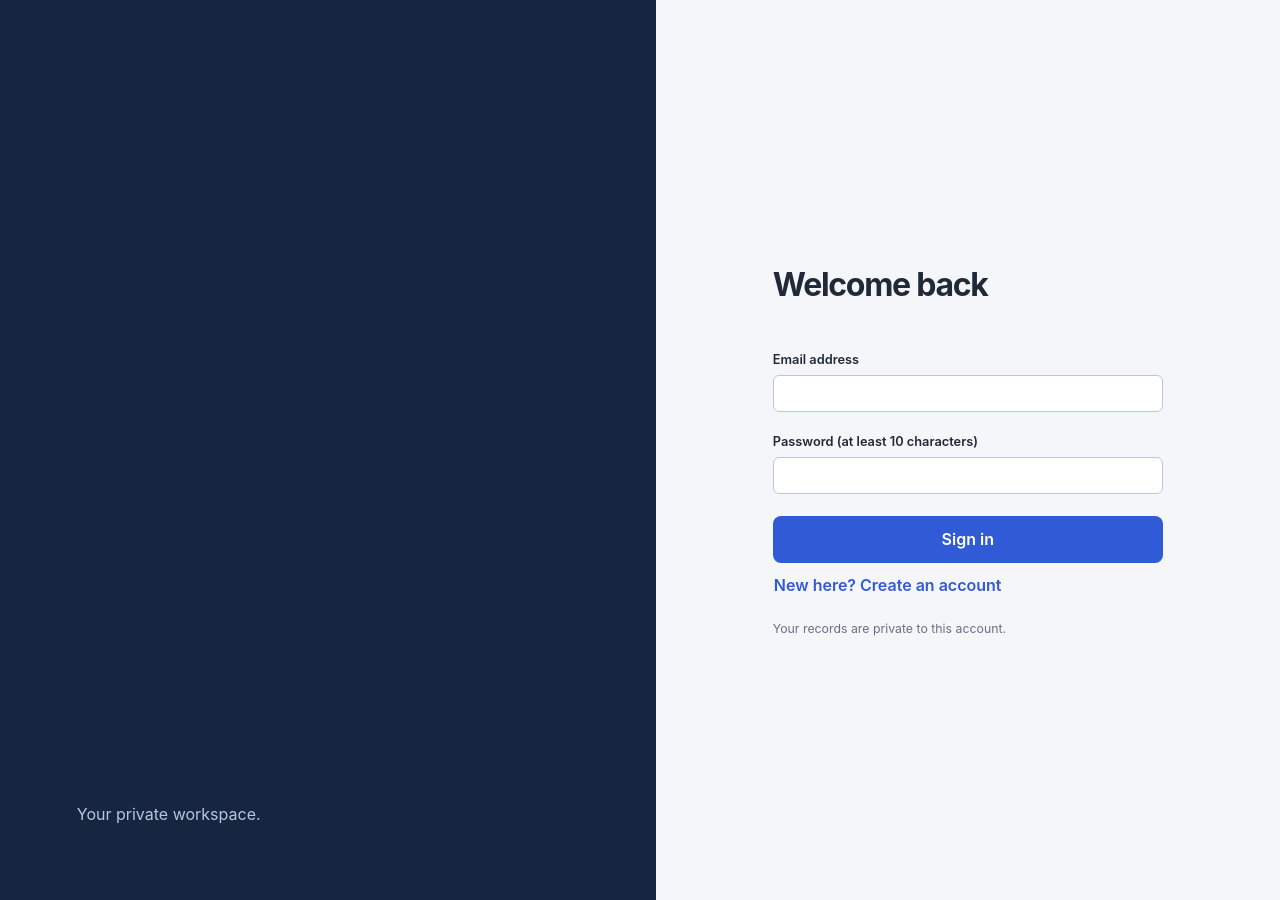
Test: registers a private account using the auth contract
The image size is (1280, 900).
Click the button "New here? Create an account" at (888, 585), box [773, 563, 1002, 607]
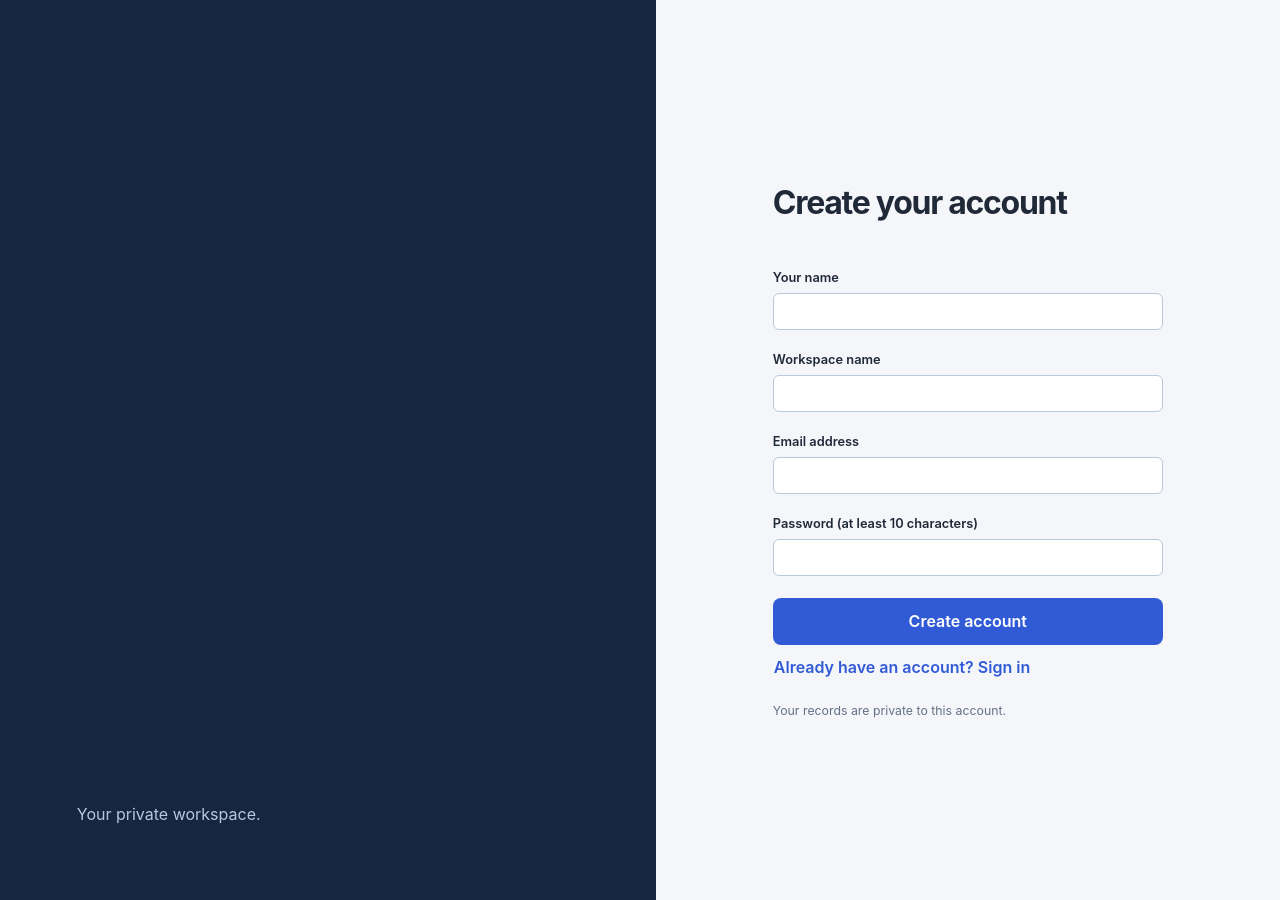
Type "Member" into the field labelled "Your name" at (968, 312), box [773, 293, 1163, 330]
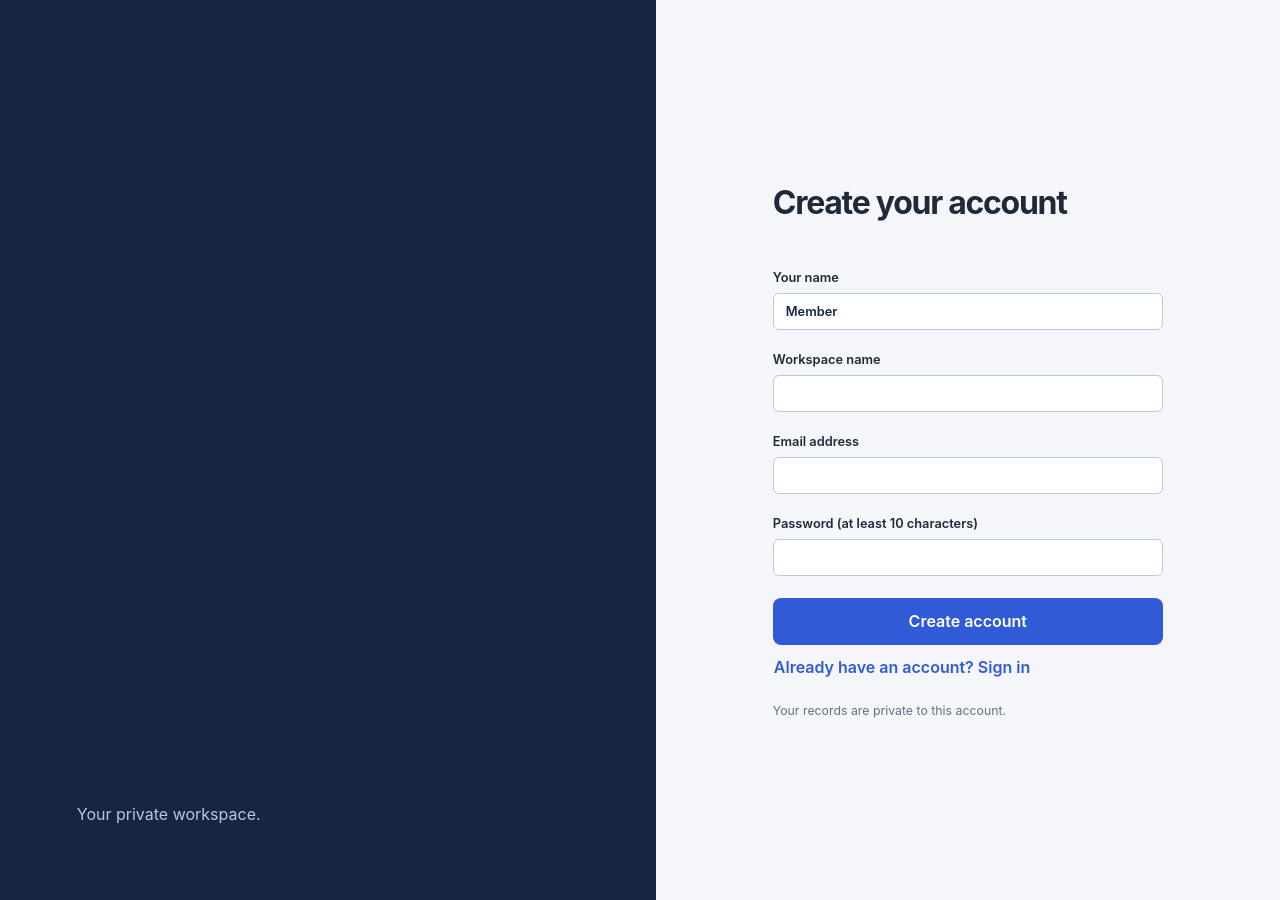
Type "Private workspace" into the field labelled "Workspace name" at (968, 394), box [773, 375, 1163, 412]
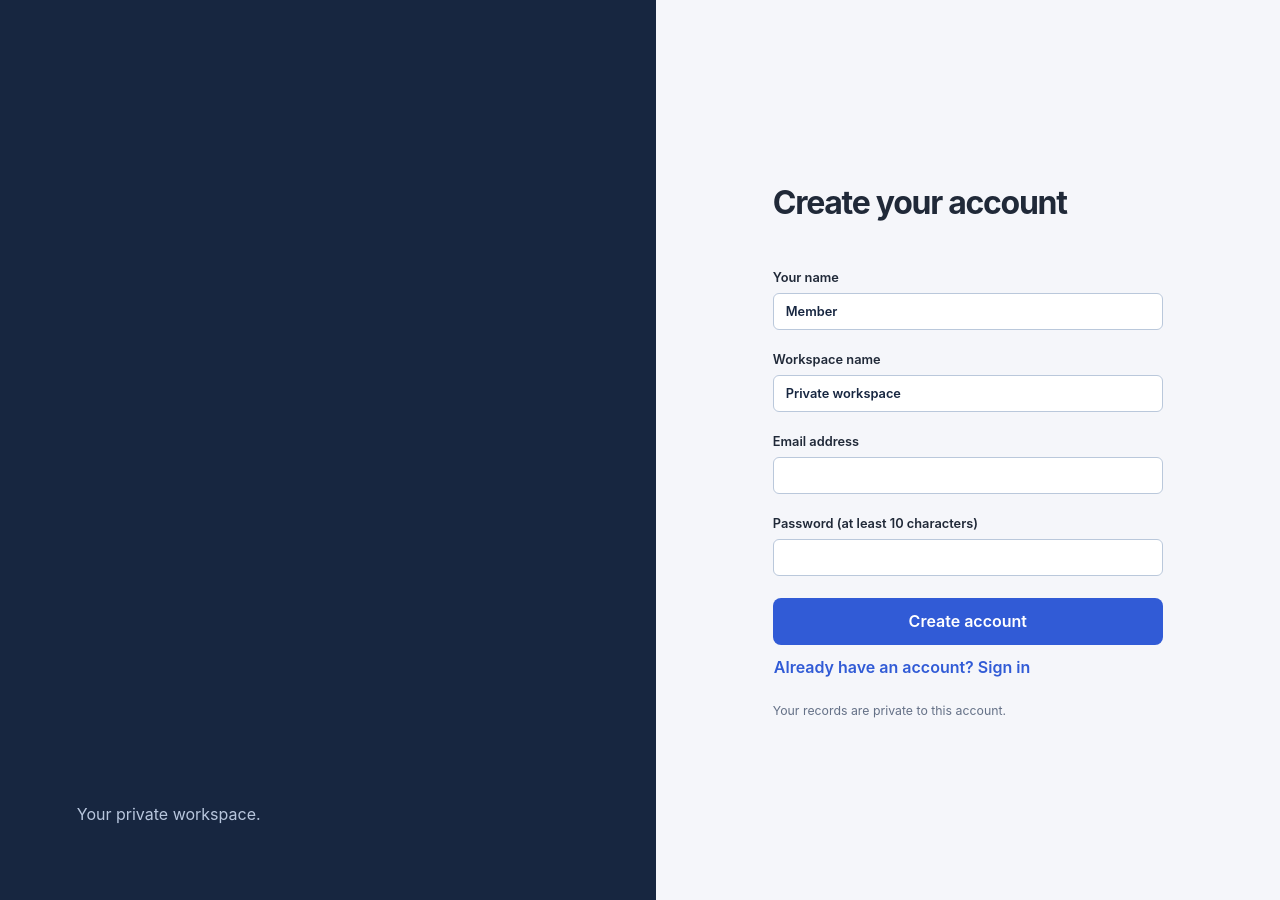
Type "member@example.test" into the field labelled "Email address" at (968, 476), box [773, 457, 1163, 494]
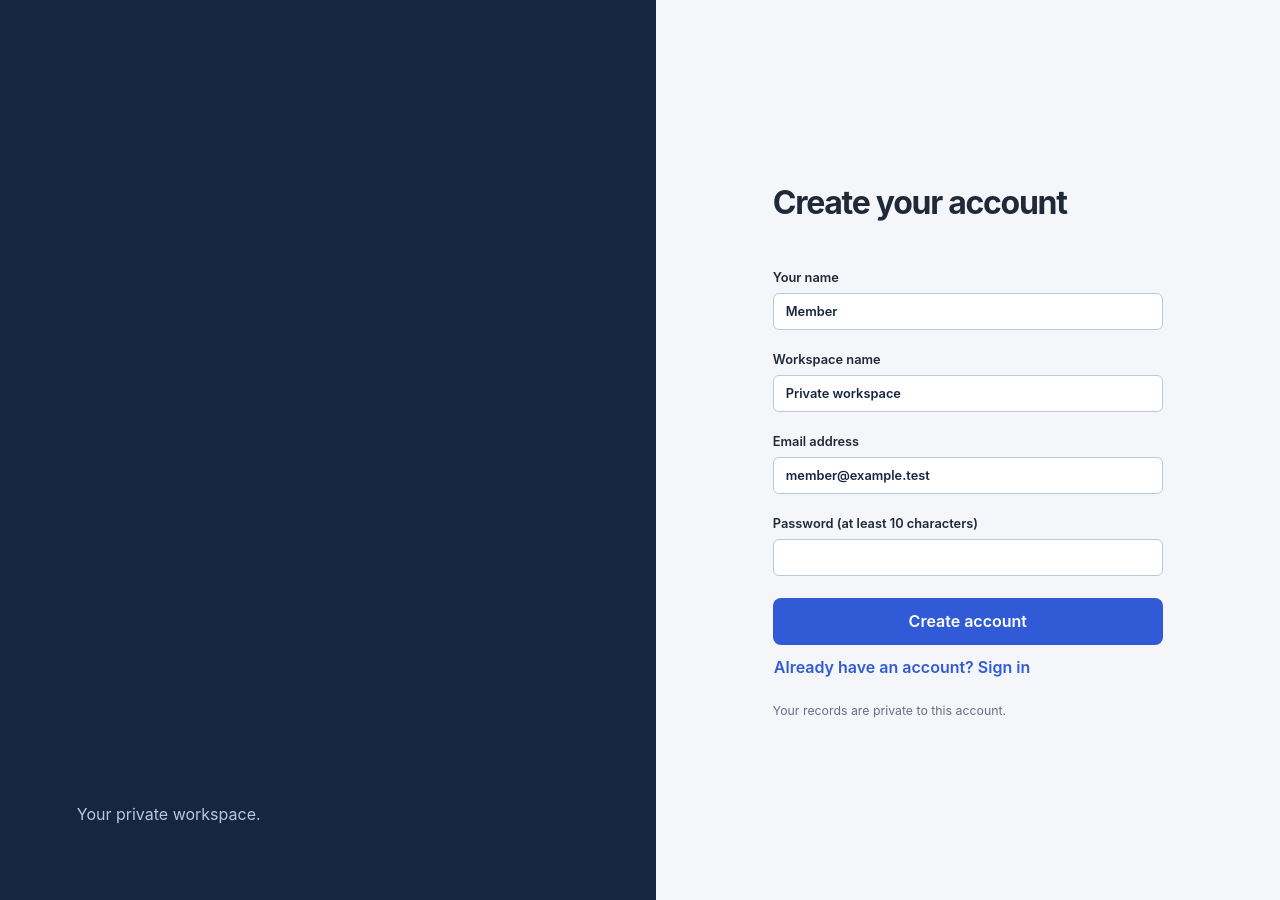
Type "Long-password-123" into the password field labelled "Password (at least 10 characters)" at (968, 558), box [773, 539, 1163, 576]
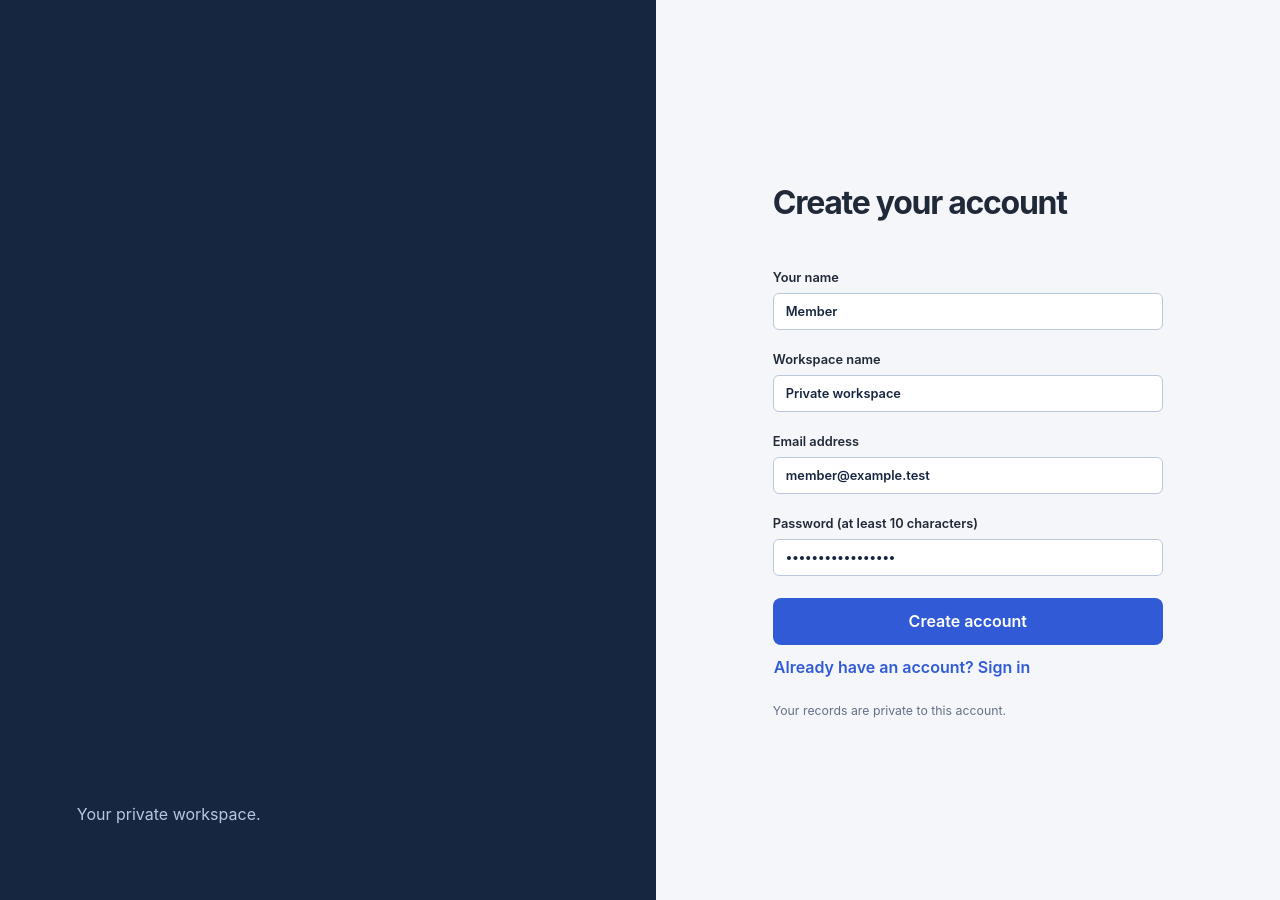
Click the button "Create account" at (968, 622), box [773, 598, 1163, 645]
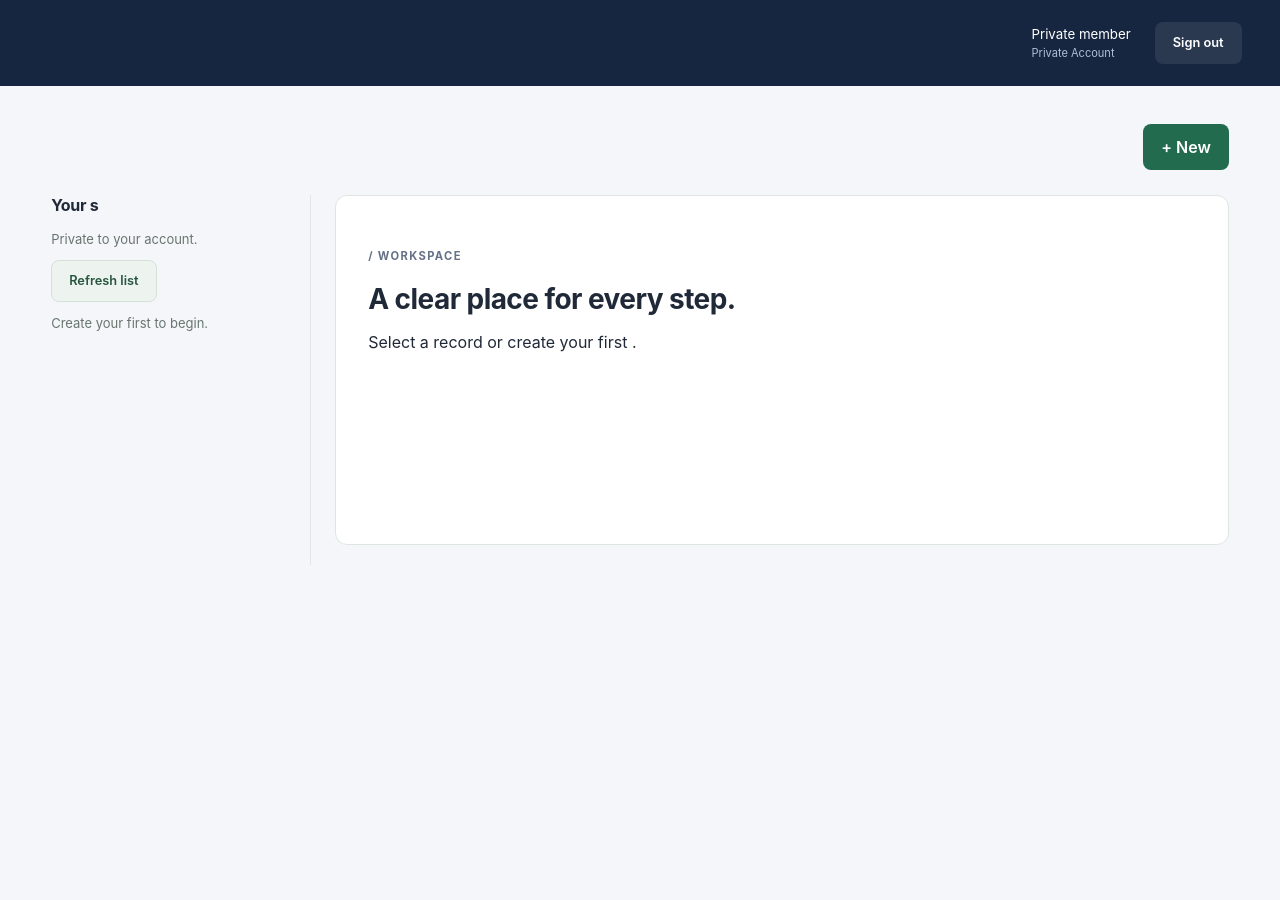
Expected: the text "Private account" is shown, [1032, 46, 1115, 60]
